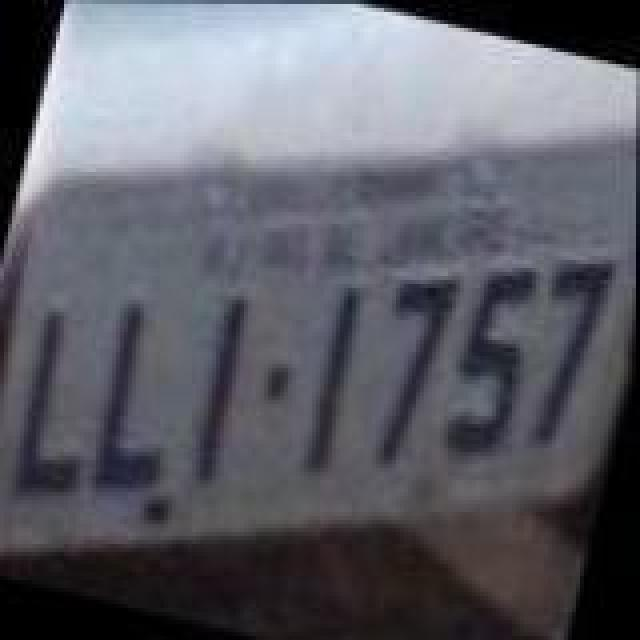1: (292, 276, 372, 488), (182, 290, 258, 498)
5: (436, 256, 548, 468)
7: (354, 264, 462, 476), (512, 248, 616, 448)
L: (78, 294, 202, 506), (0, 304, 120, 512)
